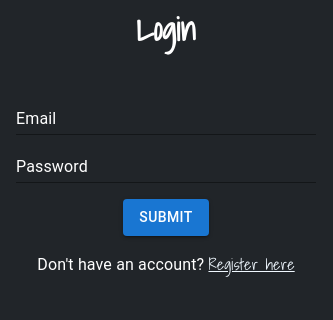
Scenario: login › login function › with failure › should return error
Type "test@example.com" into the field labelled "Email". click: (166, 119)
box: x1=16 y1=103 x2=316 y2=135
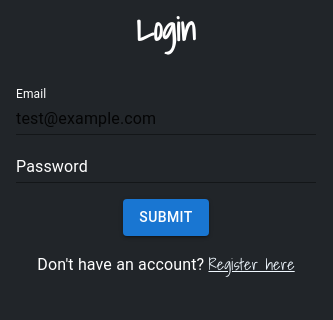
Type "whatever123" into the password field labelled "Password". click: (166, 167)
box: x1=16 y1=151 x2=316 y2=183
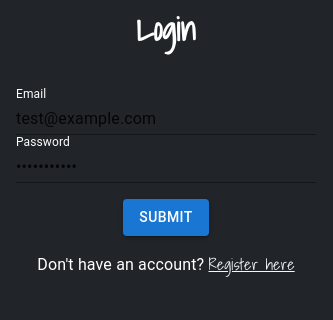
Click the button. click: (166, 217)
box: x1=123 y1=199 x2=209 y2=236
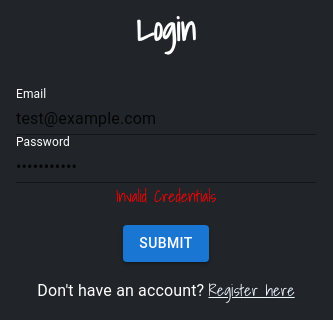
Result: the text "Invalid Credentials" is shown at x1=116 y1=183 x2=216 y2=209
